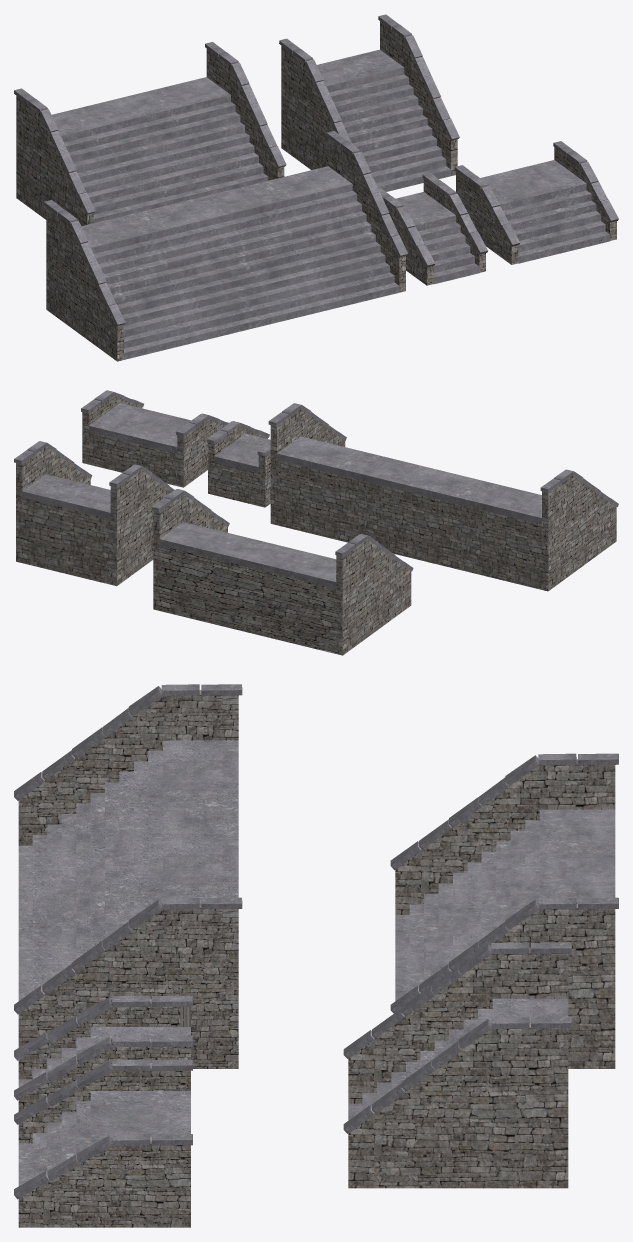
The model's file is medieval_stone_stairs.glb.
3 renders of one model, top to bottom at view 1: azimuth 30°, elevation 25°; view 2: azimuth 150°, elevation 25°; view 3: azimuth 270°, elevation 25°, orthographic. The views are drawn at different scales.
Visible parts, largest first — view 1: StairsStoneWideTall6_4, StairsStoneWideTall4_3, StairsStoneWideTall_2, StairsStoneWide_1, StairsStone_0; view 2: StairsStoneWideTall6_4, StairsStoneWideTall4_3, StairsStoneWideTall_2, StairsStoneWide_1, StairsStone_0; view 3: StairsStoneWideTall6_4, StairsStoneWideTall_2, StairsStoneWideTall4_3, StairsStoneWide_1, StairsStone_0.
Part boxes in pixels (<box>): StairsStoneWideTall6_4: <box>44,131,407,361</box>; StairsStoneWideTall4_3: <box>14,42,286,226</box>; StairsStoneWideTall_2: <box>279,14,459,191</box>; StairsStoneWide_1: <box>454,141,618,264</box>; StairsStone_0: <box>377,173,488,285</box>; StairsStoneWideTall6_4: <box>268,403,618,591</box>; StairsStoneWideTall4_3: <box>151,489,413,655</box>; StairsStoneWideTall_2: <box>14,441,174,586</box>; StairsStoneWide_1: <box>81,390,228,487</box>; StairsStone_0: <box>207,421,270,507</box>; StairsStoneWideTall6_4: <box>14,684,242,1068</box>; StairsStoneWideTall_2: <box>343,942,571,1188</box>; StairsStoneWideTall4_3: <box>390,753,618,1068</box>; StairsStoneWide_1: <box>14,1059,192,1227</box>; StairsStone_0: <box>14,995,192,1111</box>.
Size of the model in its own units: 19.03 by 3.89 by 12.85.
2 materials, 2 textured.
